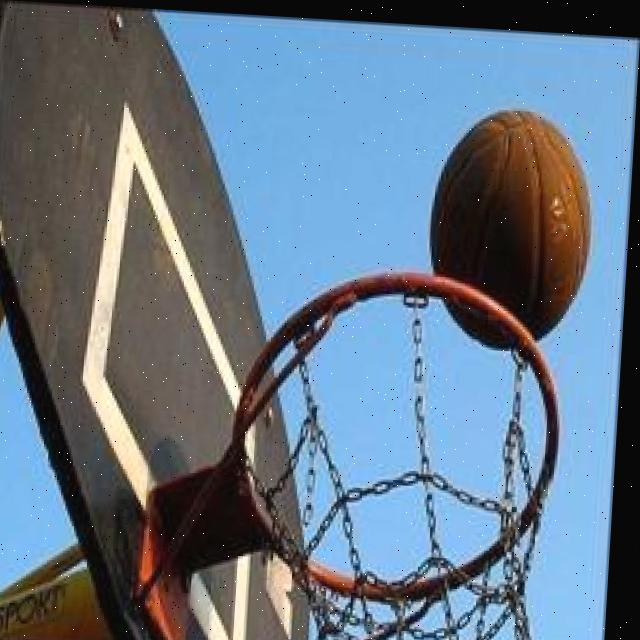basketball: (413, 96, 608, 361)
hoop: (213, 257, 574, 640)
